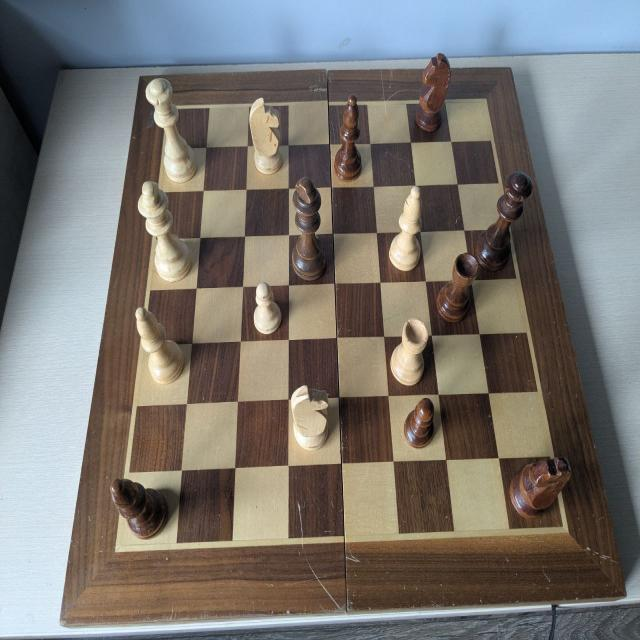black_bishop: (109, 478, 170, 541), (334, 95, 362, 182)
black_king: (291, 177, 328, 282)
black_knight: (509, 454, 572, 520), (414, 53, 452, 133)
black_pawn: (404, 397, 435, 449)
black_queen: (475, 172, 533, 274)
black_rook: (436, 253, 479, 323)
white_bishop: (135, 306, 185, 385), (388, 186, 423, 272)
white_king: (137, 180, 192, 283)
white_knight: (249, 97, 284, 175), (290, 384, 330, 451)
white_pawn: (253, 282, 282, 335)
white_queen: (144, 75, 199, 184)
white_rook: (389, 318, 429, 387)
